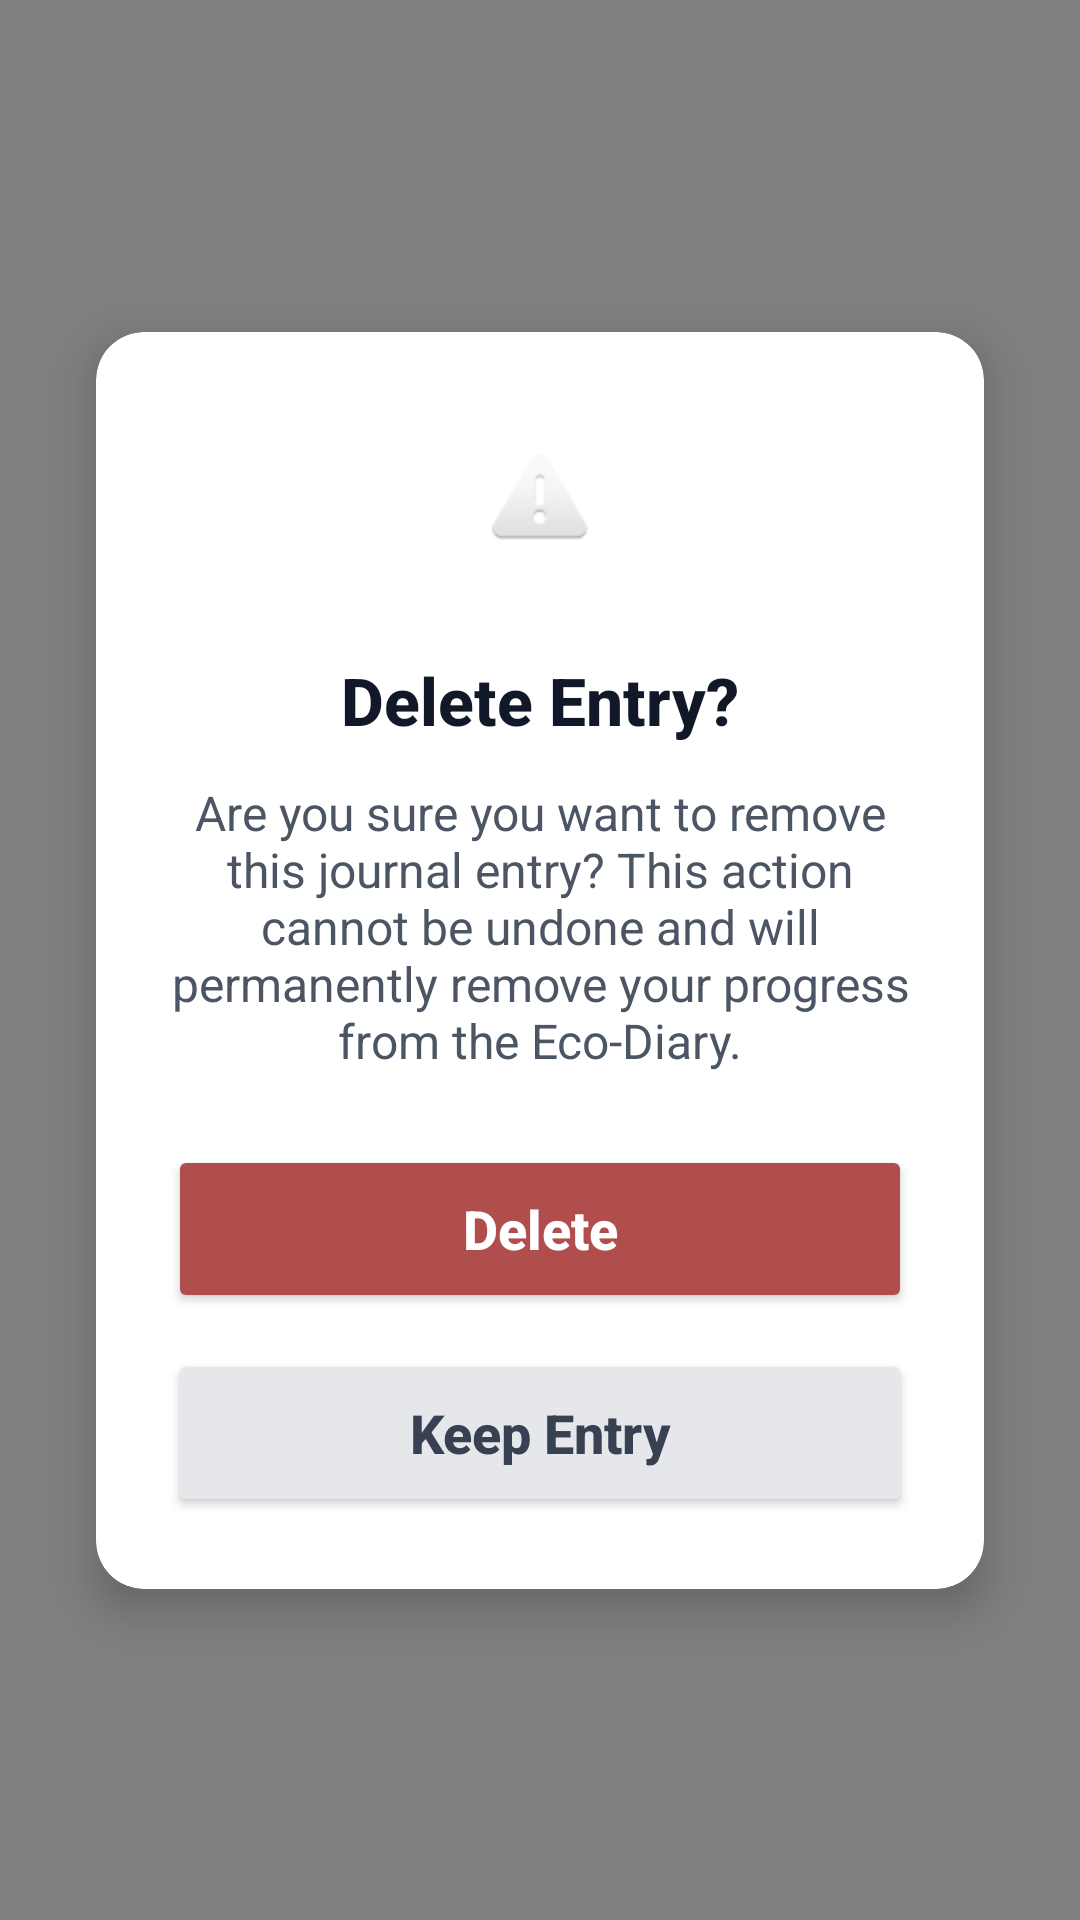

Icon bounding boxes for this 1080 x 1920 phone screenshot, format (x1, y1, x2, y2):
alert: (492, 474, 588, 539)
